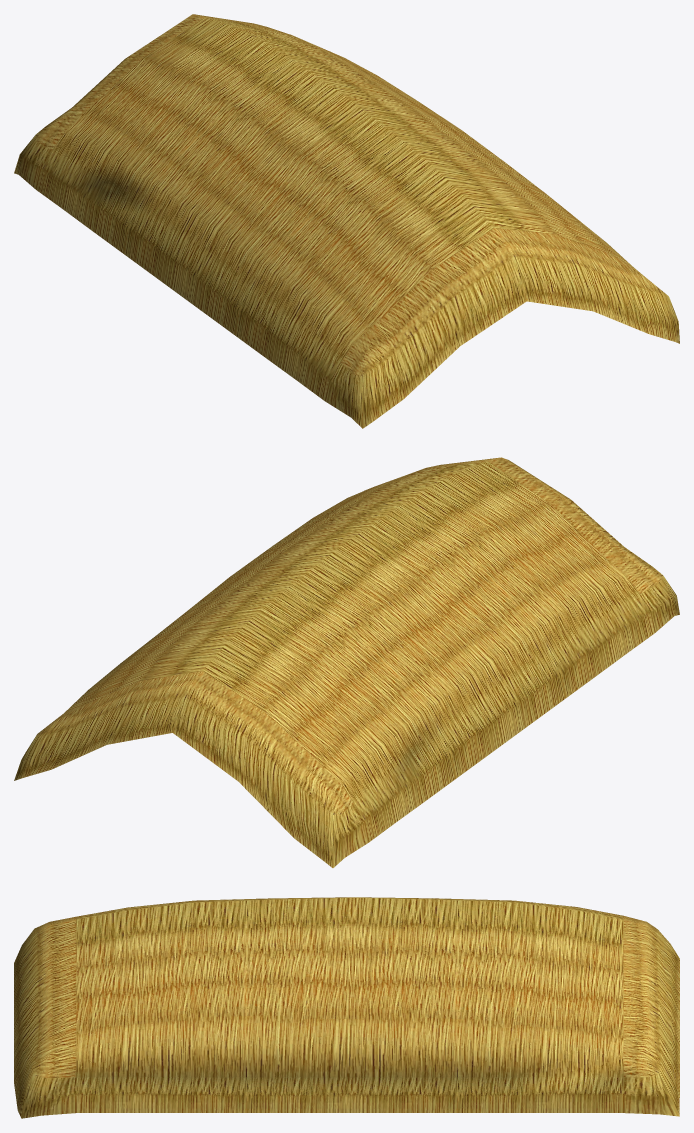
File: HTOWN01_MILLROOF01.fbx
The picture shows the model from 3 angles, top to bottom: view 1: azimuth 30°, elevation 25°; view 2: azimuth 150°, elevation 25°; view 3: azimuth 270°, elevation 25°; orthographic projection. The views are drawn at different scales.
Parts seen in each view (by area): view 1: HTOWN01_MILLROOF01; view 2: HTOWN01_MILLROOF01; view 3: HTOWN01_MILLROOF01.
Part boxes in pixels (x1,y1,x2,y2): HTOWN01_MILLROOF01: (14,14,679,428); HTOWN01_MILLROOF01: (14,457,679,867); HTOWN01_MILLROOF01: (14,897,679,1118).
Bounding box in the file's own units: 77046 × 35812 × 140662.
Materials: 4 (4 with a texture image).
